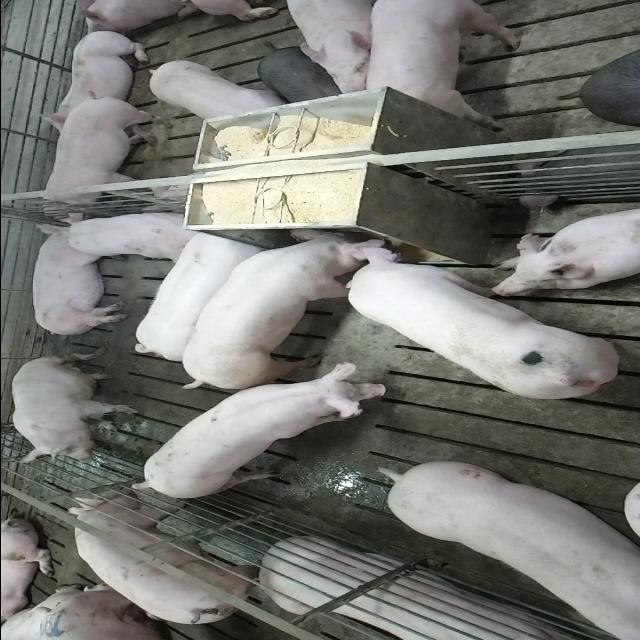Feeding: (339, 243, 622, 402), (176, 222, 396, 388)
Lateral_lying: (260, 538, 594, 640), (28, 222, 128, 338)
Sitting: (7, 354, 138, 464)
Standing: (380, 464, 640, 640), (130, 366, 392, 504), (64, 495, 268, 631), (367, 1, 518, 130), (127, 228, 264, 362), (26, 94, 172, 215), (142, 57, 282, 123), (282, 0, 372, 96), (254, 44, 338, 104)
Sternal_lying: (489, 204, 640, 294), (34, 29, 154, 124), (50, 208, 198, 260)
